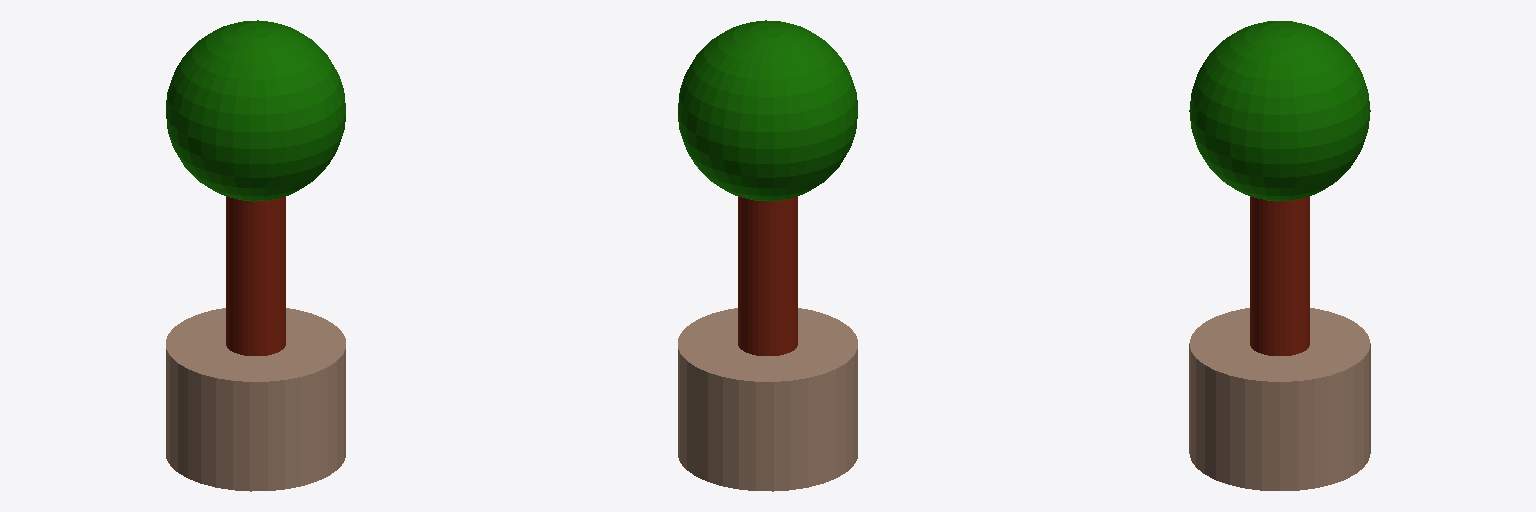
The robot description file, URDF, robot "plant":
<?xml version="1.0"?>
<robot name="plant">
    <!-- Colors -->
    <material name="brique">
        <color rgba="0.517 0.180 0.106 1"/>
    </material>
    <material name="sepia">
        <color rgba="0.663 0.549 0.471 1"/>
    </material>
    <material name="vert">
        <color rgba="0.133 0.470 0.059 1"/>
    </material>

    <!-- plant -->
    <link name="cylinder_1">
        <visual>
            <geometry>
                <cylinder radius="0.3" length="0.4"/>
                <origin rpy="0 0 0" xyz="0 0 0"/>
            </geometry>
            <material name="sepia"/>
        </visual>
        <collision>
             <geometry>
                <cylinder radius="0.3" length="0.4"/>
                <origin rpy="0 0 0" xyz="0 0 0"/>
            </geometry>
        </collision>
        <inertial>
            <mass value="0"/>
            <inertia ixx="0" ixy="0" ixz="0" iyy="0" iyz="0" izz="0"/>
        </inertial>
    </link>

    <link name="cylinder_2">
        <visual>
            <geometry>
                <cylinder radius="0.1" length="0.8"/>
                <origin rpy="0 0 0" xyz="0 0 0"/>
            </geometry>
            <material name="brique"/>
        </visual>
        <collision>
             <geometry>
                <cylinder radius="0.1" length="0.8"/>
                <origin rpy="0 0 0" xyz="0 0 0"/>
            </geometry>
        </collision>
        <inertial>
            <mass value="0"/>
            <inertia ixx="0" ixy="0" ixz="0" iyy="0" iyz="0" izz="0"/>
        </inertial>
    </link>

    <link name="sphere_1">
        <visual>
            <geometry>
                <sphere radius="0.3"/>
                <origin rpy="0 0 0" xyz="0 0 0"/>
            </geometry>
            <material name="vert"/>
        </visual>
        <collision>
             <geometry>
                <sphere radius="0.3" />
                <origin rpy="0 0 0" xyz="0 0 0"/>
            </geometry>
        </collision>
        <inertial>
            <mass value="0"/>
            <inertia ixx="0" ixy="0" ixz="0" iyy="0" iyz="0" izz="0"/>
        </inertial>
    </link>

    <joint name="back_to_seat" type="fixed">
      <parent link="cylinder_1"/>
      <child link="cylinder_2"/>
      <origin xyz="0 0 0.6"/>
    </joint>

    <joint name="cylinder_1_to_seat" type="fixed">
      <parent link="cylinder_2"/>
      <child link="sphere_1"/>
      <origin xyz="0 0 0.45"/>
    </joint>
</robot>

--- Facts derived from the render (not from the file) ---
The picture shows the robot from 3 angles, left to right: view 1: azimuth 30°, elevation 25°; view 2: azimuth 150°, elevation 25°; view 3: azimuth 270°, elevation 25°; orthographic projection.
Robot: plant — 3 links, 2 joints (2 fixed); root link cylinder_1; default pose: every joint at zero.
Visible links, largest first — view 1: cylinder_1, sphere_1, cylinder_2; view 2: cylinder_1, sphere_1, cylinder_2; view 3: cylinder_1, sphere_1, cylinder_2.
Link boxes in pixels (x1,y1,x2,y2): cylinder_1: (166,308,345,491); sphere_1: (166,20,345,201); cylinder_2: (226,196,285,355); cylinder_1: (678,308,857,491); sphere_1: (678,20,857,201); cylinder_2: (738,196,797,355); cylinder_1: (1189,308,1370,490); sphere_1: (1189,21,1370,201); cylinder_2: (1250,196,1309,355).
Bounding box of the posed robot: 0.6 × 0.6 × 1.55 m (x, y, z).
Geometry: primitives only (box / cylinder / sphere), no mesh files.